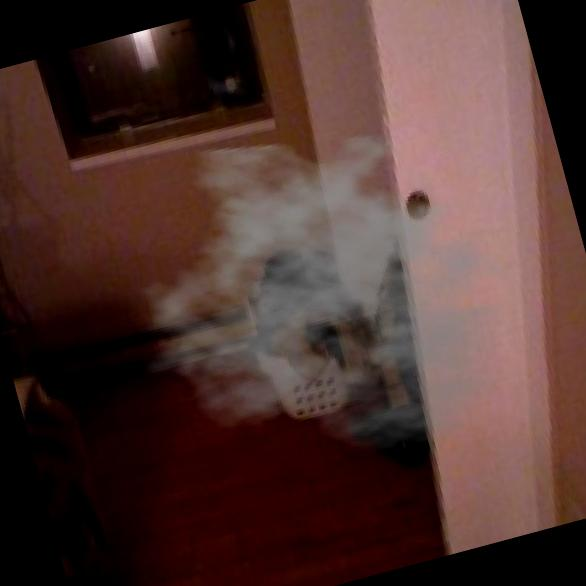smoke: (88, 72, 573, 512)
